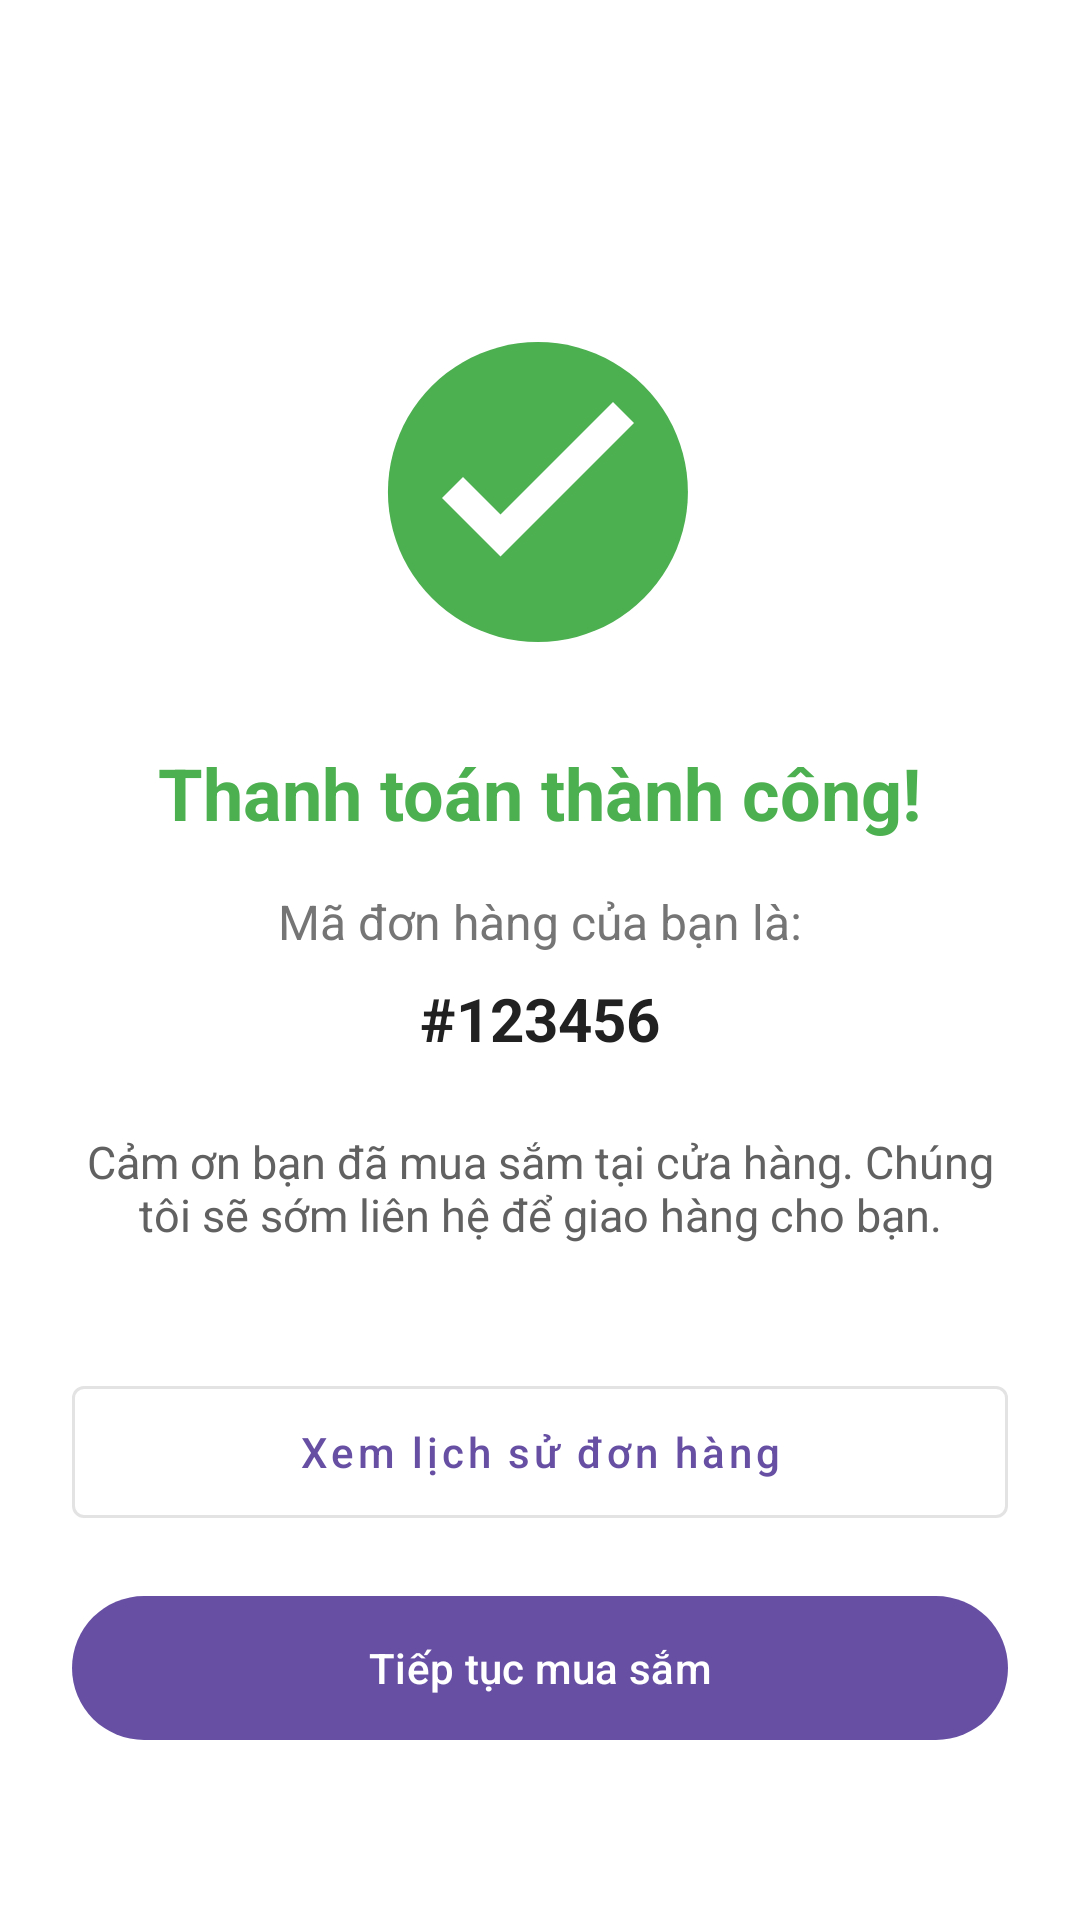

Point at icon controls on the screen. Image size 1080px x 1920px, points as point (x, y).
success circle: point (538, 492)
